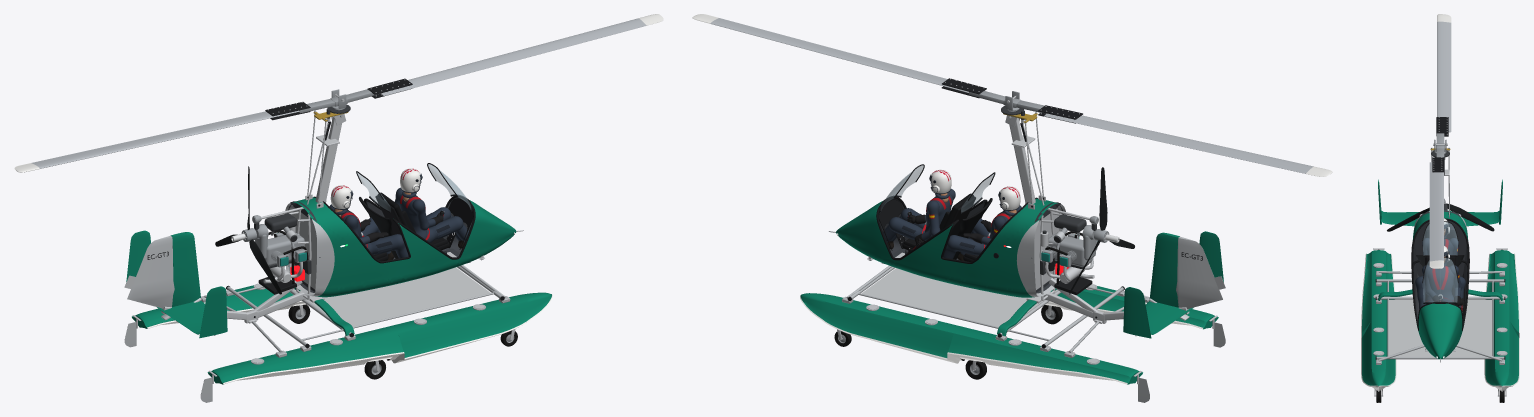
Rendered from mt03_floats.glb.
3 views of the same model, side by side, from view 1: azimuth 30°, elevation 25°; view 2: azimuth 150°, elevation 25°; view 3: azimuth 270°, elevation 25° (orthographic). The views are drawn at different scales.
Visible parts, largest first — view 1: airframe, rotor, rudder, pilot_rear, pilot_front, prop, windscreen; view 2: airframe, rotor, rudder, pilot_rear, prop, pilot_front, windscreen; view 3: airframe, rotor, windscreen, pilot_front, pilot_rear, prop, pilot_front_armL_up, pilot_front_armR_up.
Boxes of the visible parts, x1,y1,x2,y2 form: airframe: (126,111,552,384); rotor: (14,14,663,172); rudder: (124,236,174,308); pilot_rear: (329,185,408,260); pilot_front: (398,168,429,240); prop: (215,166,281,294); windscreen: (357,164,470,211); airframe: (800,113,1223,384); rotor: (692,14,1332,176); rudder: (1176,236,1225,309); pilot_rear: (943,186,1021,260); prop: (1069,167,1134,294); pilot_front: (922,169,953,233); windscreen: (881,165,994,212); airframe: (1361,148,1519,391); rotor: (1429,14,1451,268); windscreen: (1423,222,1457,302); pilot_front: (1426,246,1454,301); pilot_rear: (1415,218,1465,309); prop: (1387,198,1494,231); pilot_front_armL_up: (1449,265,1462,288); pilot_front_armR_up: (1422,265,1431,294).
Size of the model in its own units: 8.4 by 3.22 by 2.21.
